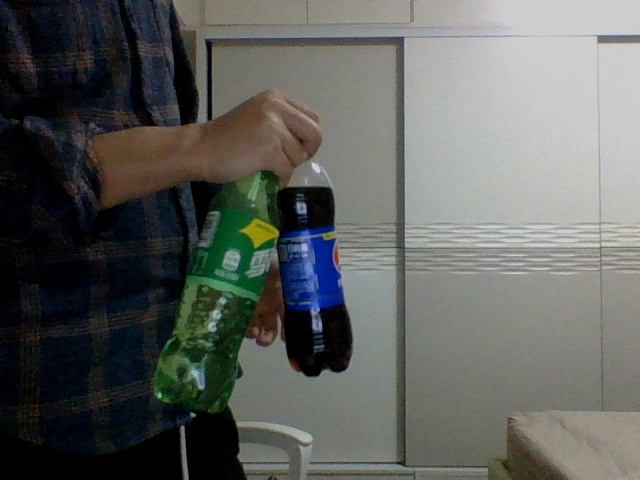Cola: (280, 163, 354, 377)
Sprite: (151, 173, 278, 411)
